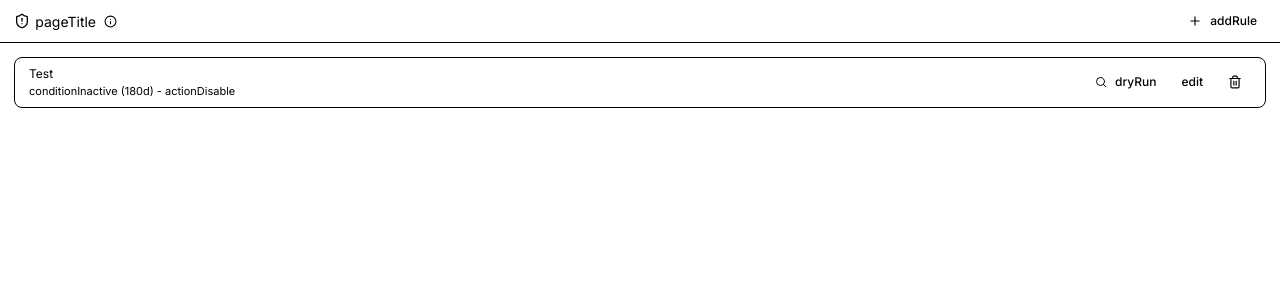
AutomatedCleanup › shows execution results after execute
The width and height of the screenshot is (1280, 281).
Click the button with test id "run-rule-0" at point(1126, 82), box [1086, 68, 1165, 96]
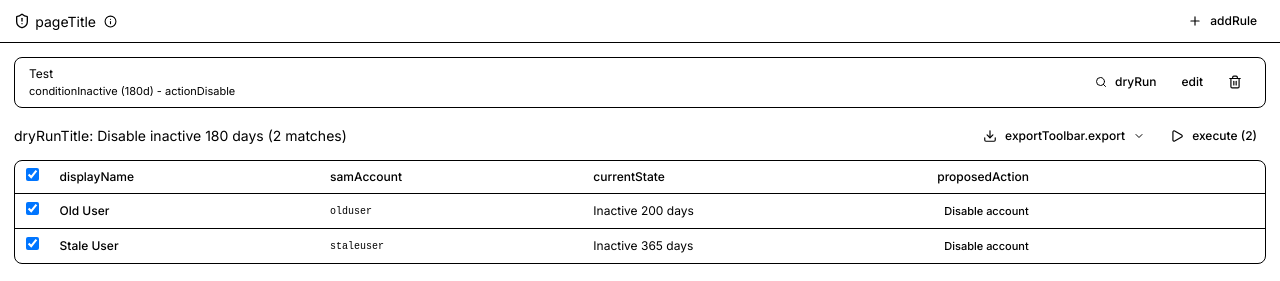
Result: the button with test id "execute-btn" is shown
Click the button with test id "execute-btn" at point(1214, 136), box [1161, 122, 1266, 150]
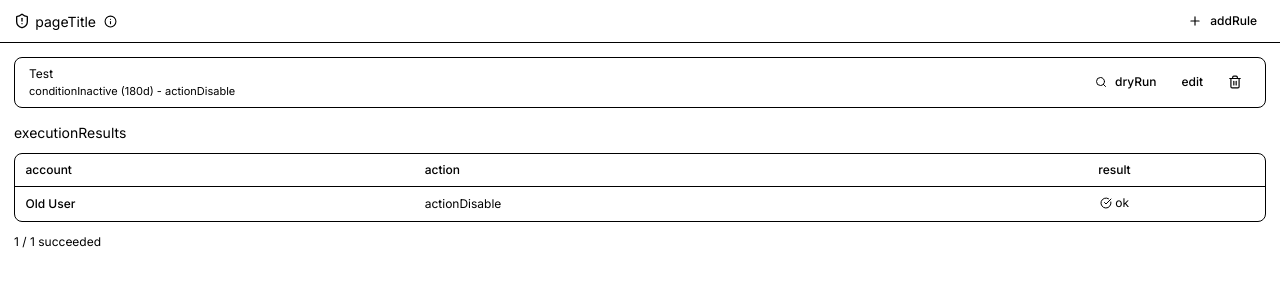
Result: the element with test id "execution-results" is shown at [14, 122, 1266, 250]
Result: the text "1 / 1 succeeded" is shown at [14, 234, 101, 248]
